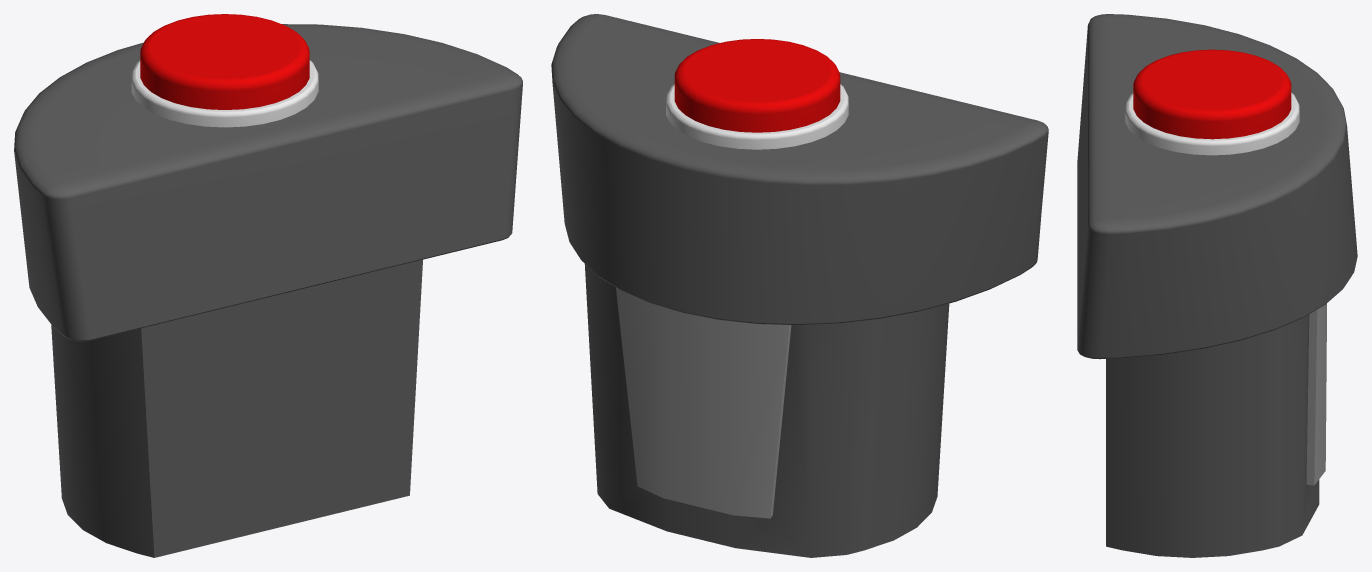
File: button_machine.fbx
3 renders of one model, left to right at view 1: azimuth 30°, elevation 25°; view 2: azimuth 150°, elevation 25°; view 3: azimuth 270°, elevation 25°, orthographic. The views are drawn at different scales.
Visible parts, largest first — view 1: pCylinder1, pCube1, pCylinder2, pCylinder3; view 2: pCylinder1, pCube1, pCylinder2, pCylinder3; view 3: pCylinder1, pCube1, pCylinder2, pCylinder3.
Boxes of the visible parts, x1=… form: pCylinder1: x1=14, y1=24, x2=522, y2=341; pCube1: x1=51, y1=259, x2=422, y2=557; pCylinder2: x1=140, y1=14, x2=309, y2=109; pCylinder3: x1=131, y1=60, x2=318, y2=127; pCylinder1: x1=551, y1=14, x2=1048, y2=325; pCube1: x1=584, y1=264, x2=949, y2=557; pCylinder2: x1=674, y1=39, x2=840, y2=132; pCylinder3: x1=666, y1=84, x2=848, y2=149; pCylinder1: x1=1077, y1=14, x2=1357, y2=359; pCube1: x1=1106, y1=303, x2=1326, y2=557; pCylinder2: x1=1133, y1=49, x2=1291, y2=139; pCylinder3: x1=1125, y1=92, x2=1299, y2=155.
Size of the model in its own units: 5.88 by 5.14 by 3.2.
